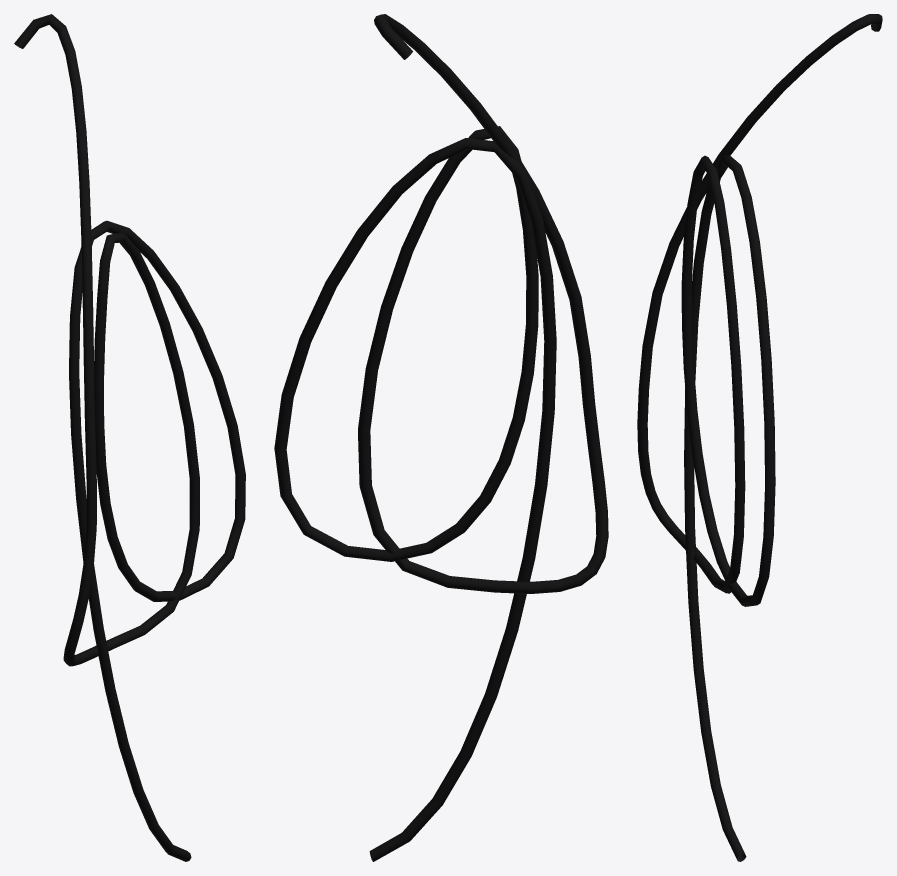
File: filo.fbx
The picture shows the model from 3 angles, left to right: view 1: azimuth 30°, elevation 25°; view 2: azimuth 150°, elevation 25°; view 3: azimuth 270°, elevation 25°; orthographic projection. The views are drawn at different scales.
Parts seen in each view (by area): view 1: filo; view 2: filo; view 3: filo.
Boxes of the visible parts, x1,y1,x2,y2 form: filo: [14, 14, 245, 861]; filo: [274, 14, 608, 861]; filo: [637, 14, 882, 861].
Size of the model in its own units: 0.1736 by 0.5734 by 0.1567.
